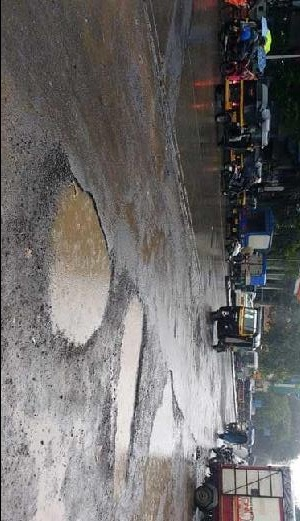pothole: (46, 170, 118, 355), (111, 292, 148, 486), (140, 367, 178, 520)
